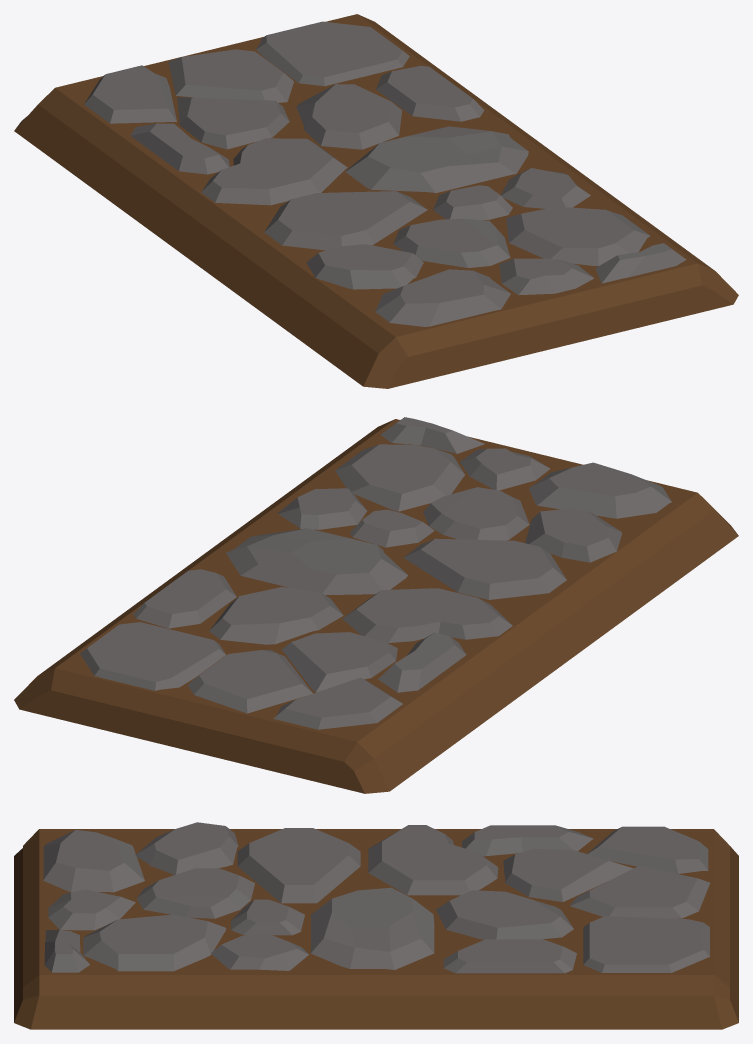
The model's file is Road_deco.fbx.
The picture shows the model from 3 angles, top to bottom: view 1: azimuth 30°, elevation 25°; view 2: azimuth 150°, elevation 25°; view 3: azimuth 270°, elevation 25°; orthographic projection.
Parts seen in each view (by area): view 1: Cube; view 2: Cube; view 3: Cube.
Boxes of the visible parts, x1=… form: Cube: x1=14, y1=14, x2=738, y2=388; Cube: x1=14, y1=417, x2=738, y2=793; Cube: x1=14, y1=822, x2=738, y2=1029.
Size of the model in its own units: 646 by 84.34 by 1090.
